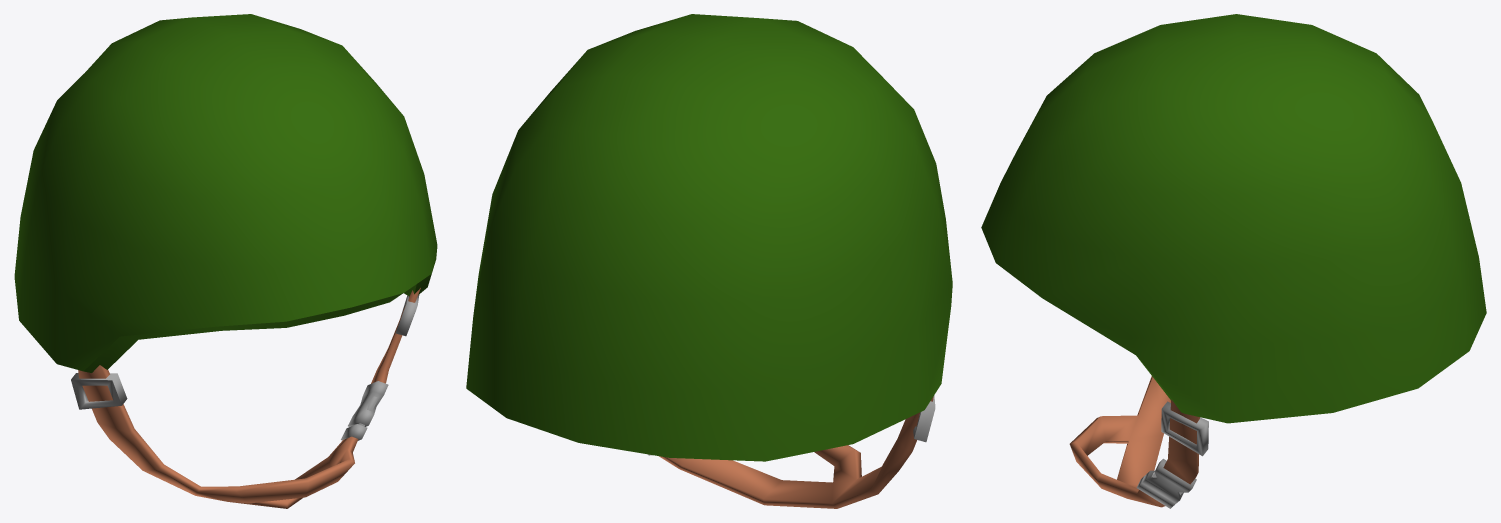
The model's file is helmet_NonRigged.fbx.
3 views of the same model, side by side, from view 1: azimuth 30°, elevation 25°; view 2: azimuth 150°, elevation 25°; view 3: azimuth 270°, elevation 25° (orthographic). The views are drawn at different scales.
Parts seen in each view (by area): view 1: helmet_NonRigged; view 2: helmet_NonRigged; view 3: helmet_NonRigged.
Boxes of the visible parts, x1,y1,x2,y2 form: helmet_NonRigged: [14, 14, 437, 508]; helmet_NonRigged: [466, 14, 952, 508]; helmet_NonRigged: [981, 14, 1486, 508].
Bounding box in the file's own units: 96.27 × 112 × 112.
